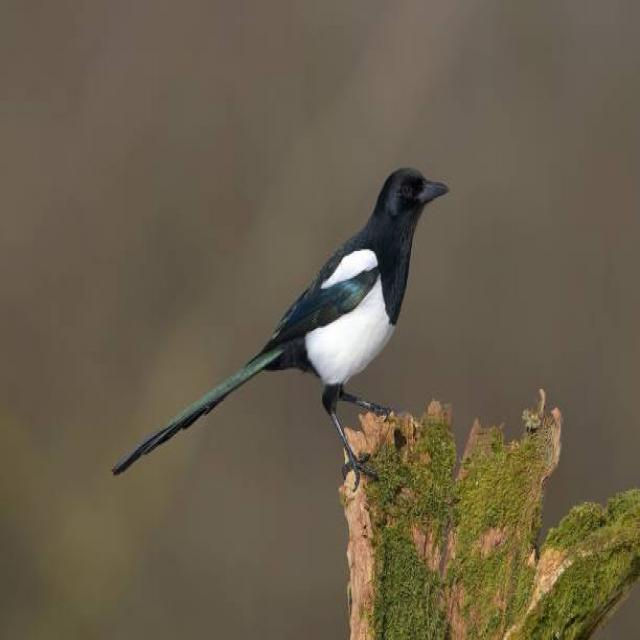Magpie: (108, 161, 453, 494)
